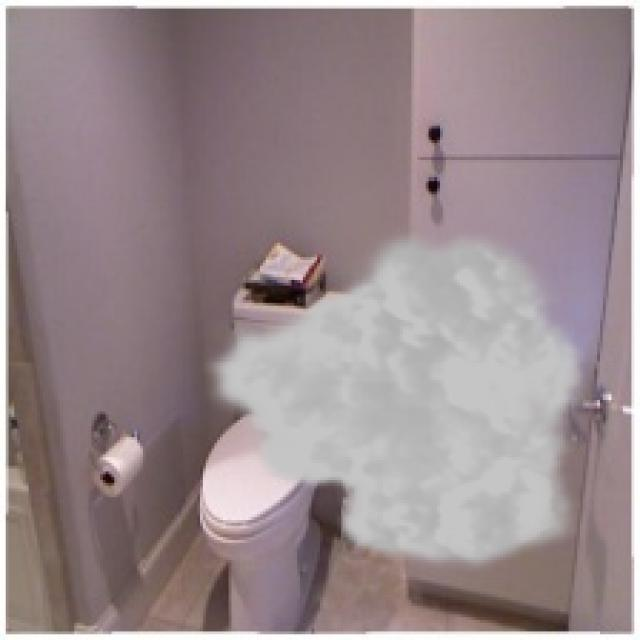smoke: (200, 223, 589, 574)
